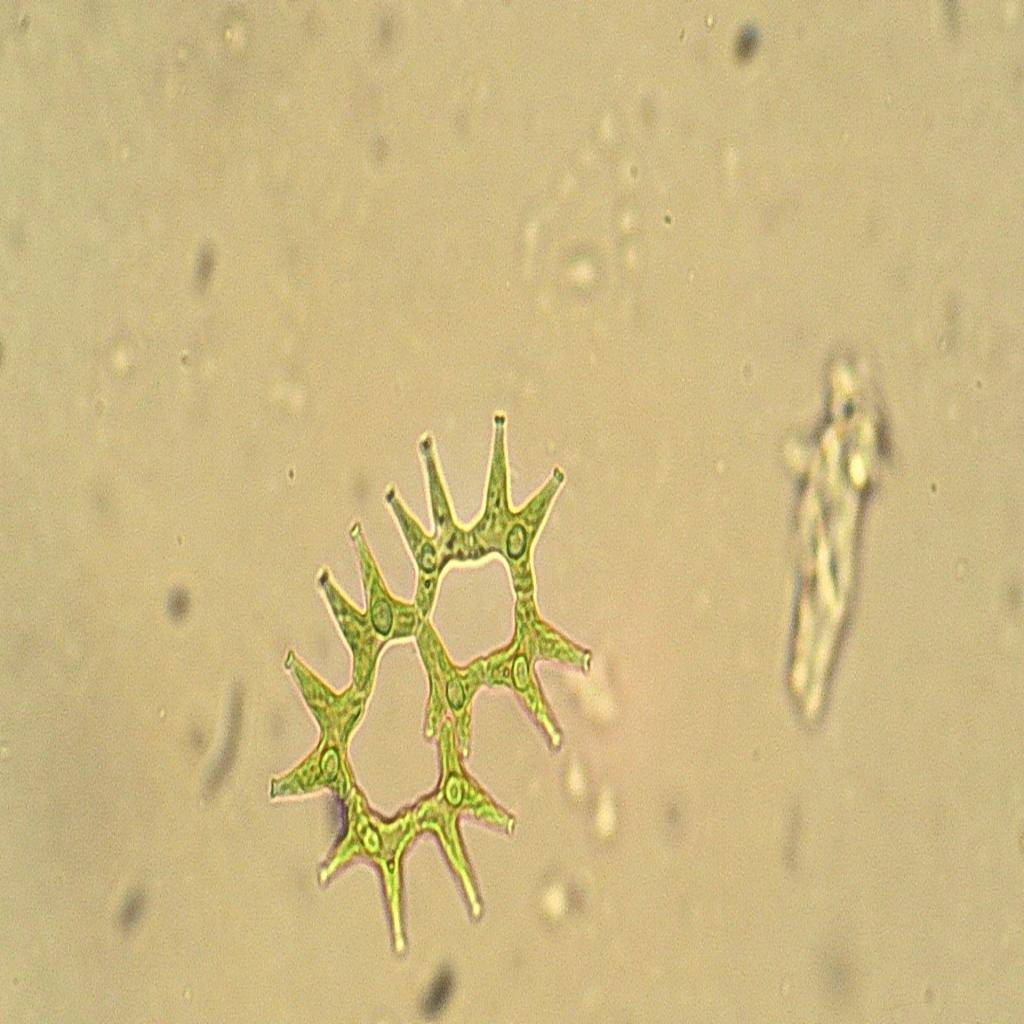Pediastrum_1TH: (241, 396, 608, 980)
